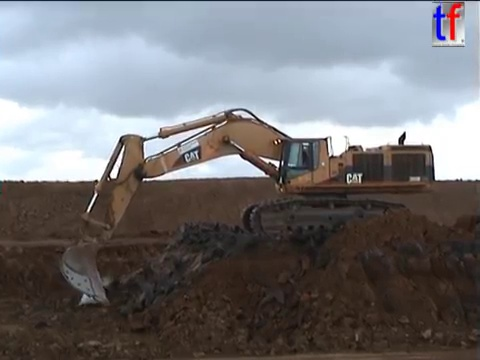excavator: (57, 105, 437, 309)
